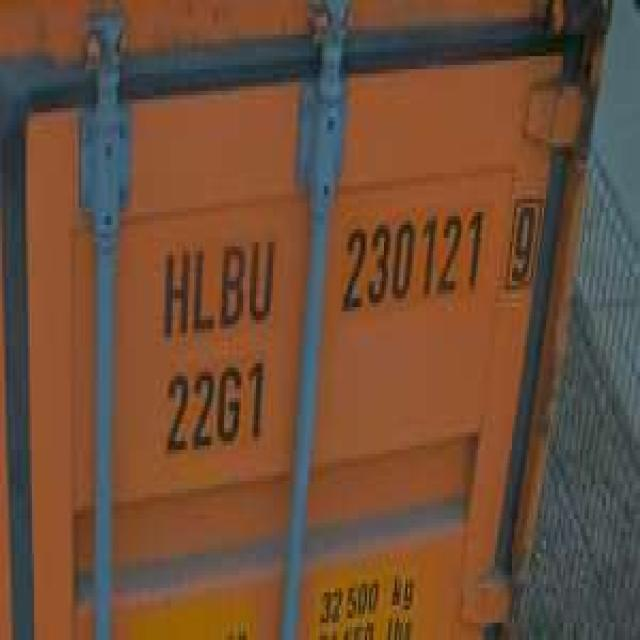dv: (501, 182, 546, 298)
owner: (156, 225, 277, 333)
serial: (337, 194, 486, 316)
size: (158, 351, 271, 458)
